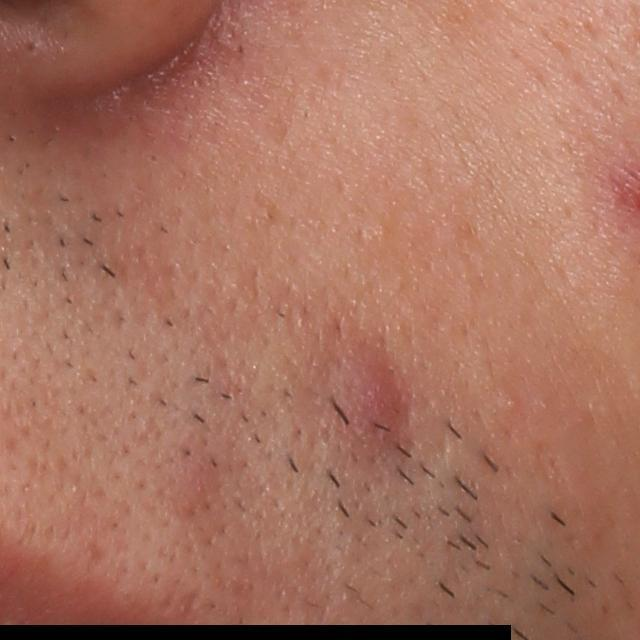papule: (327, 348, 406, 443)
